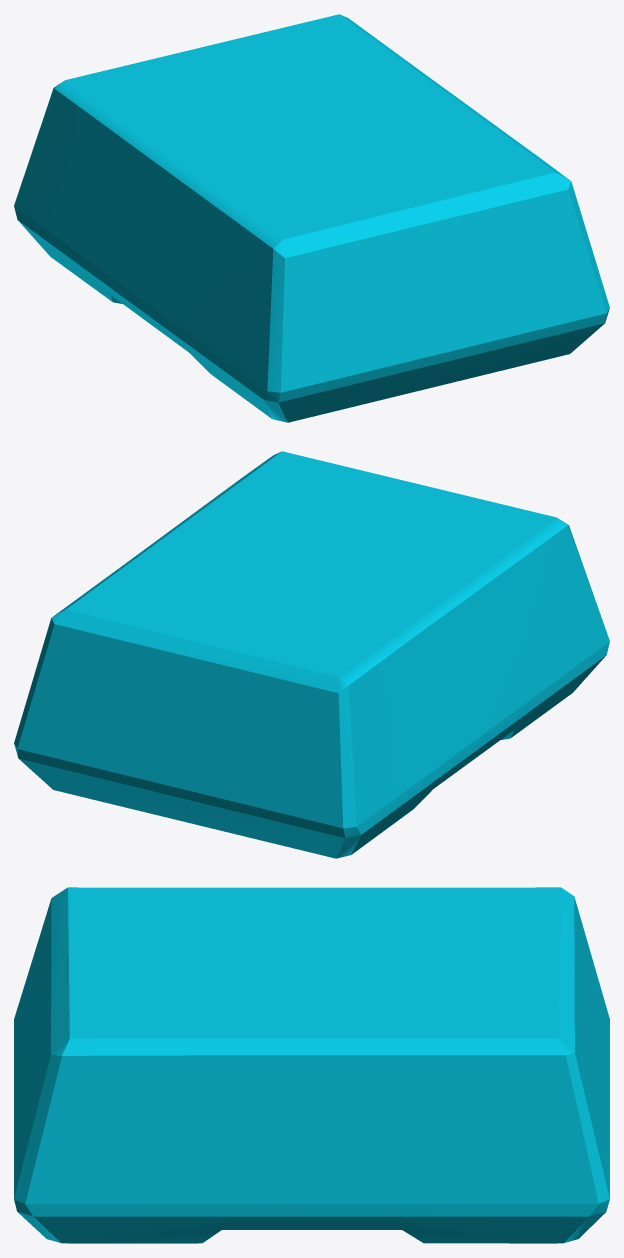
Rendered from obj_casted_bar.fbx.
The picture shows the model from 3 angles, top to bottom: view 1: azimuth 30°, elevation 25°; view 2: azimuth 150°, elevation 25°; view 3: azimuth 270°, elevation 25°; orthographic projection. The views are drawn at different scales.
Visible parts, largest first — view 1: geo_bar.002; view 2: geo_bar.002; view 3: geo_bar.002.
Boxes of the visible parts, x1=… form: geo_bar.002: x1=14, y1=14, x2=609, y2=422; geo_bar.002: x1=14, y1=451, x2=609, y2=858; geo_bar.002: x1=14, y1=887, x2=609, y2=1243.
Bounding box in the file's own units: 6 × 3 × 7.95.
